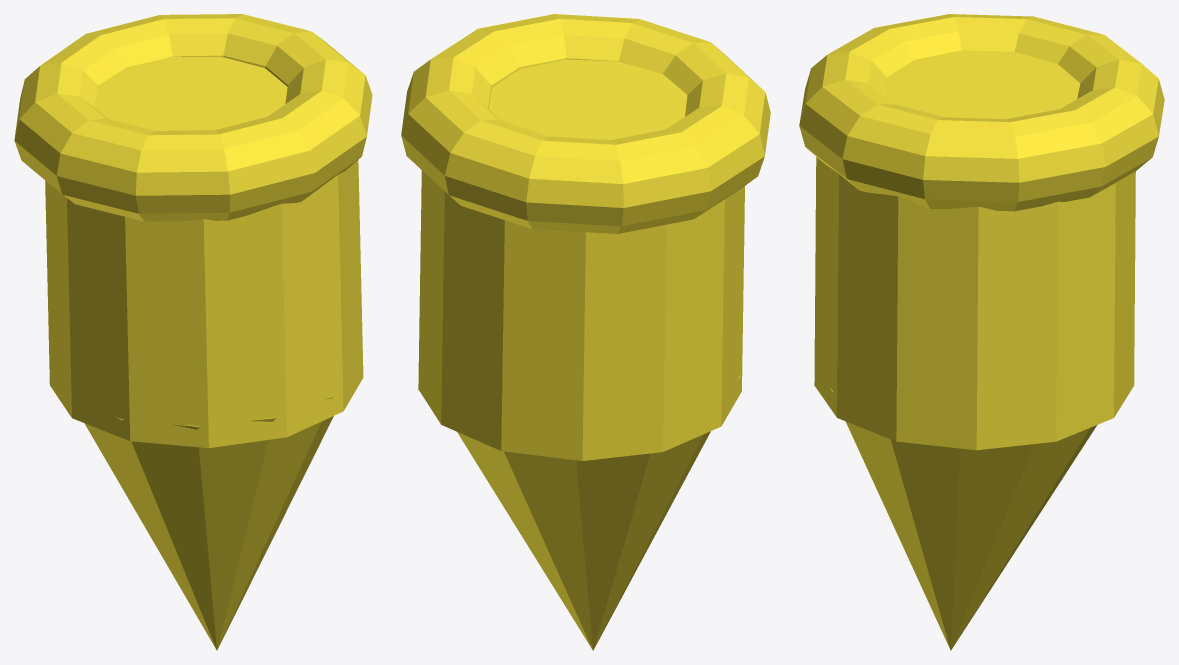
3 views of the same model, side by side, from view 1: azimuth 30°, elevation 25°; view 2: azimuth 150°, elevation 25°; view 3: azimuth 270°, elevation 25° (orthographic). The views are drawn at different scales.
Visible parts, largest first — view 1: group_578976136, mesh_269620274; view 2: group_578976136, mesh_269620274; view 3: group_578976136, mesh_269620274.
Part boxes in pixels (left/top/right/bottom): group_578976136: left=45, top=56, right=363, bottom=650; mesh_269620274: left=14, top=14, right=372, bottom=221; group_578976136: left=418, top=59, right=744, bottom=650; mesh_269620274: left=401, top=14, right=770, bottom=233; group_578976136: left=814, top=50, right=1135, bottom=650; mesh_269620274: left=799, top=14, right=1164, bottom=211.
Size of the model in its own units: 6.85 by 12.05 by 6.86.
